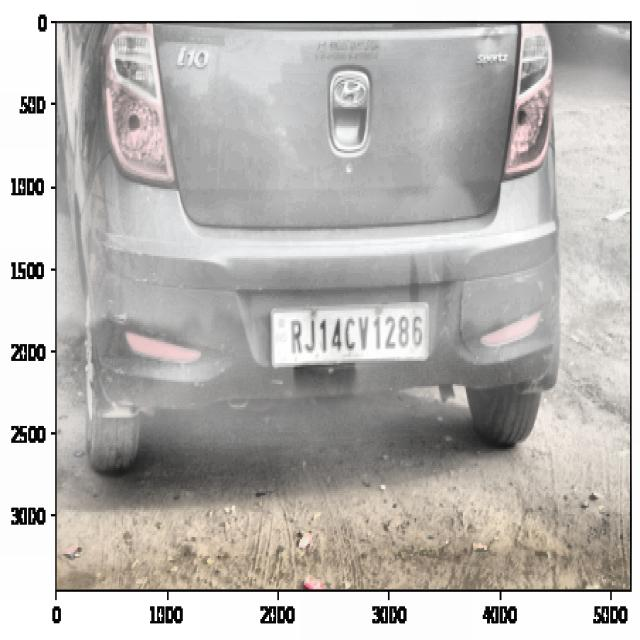license_plate: (282, 308, 428, 362)
